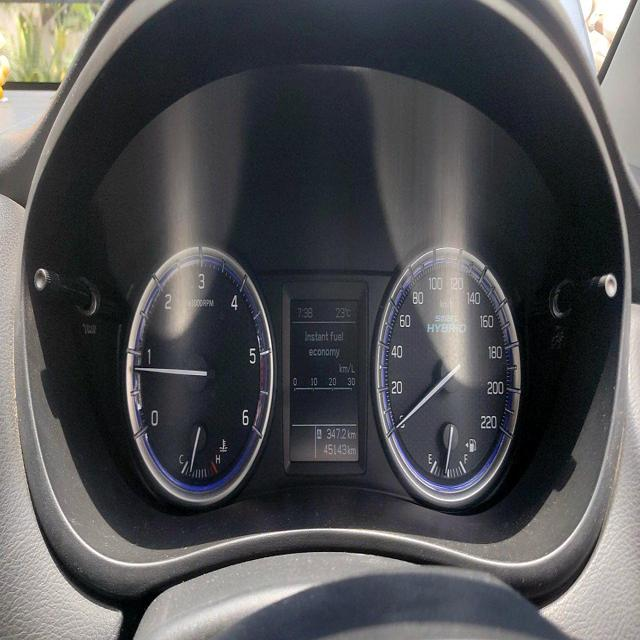odometer: (322, 441, 347, 458)
